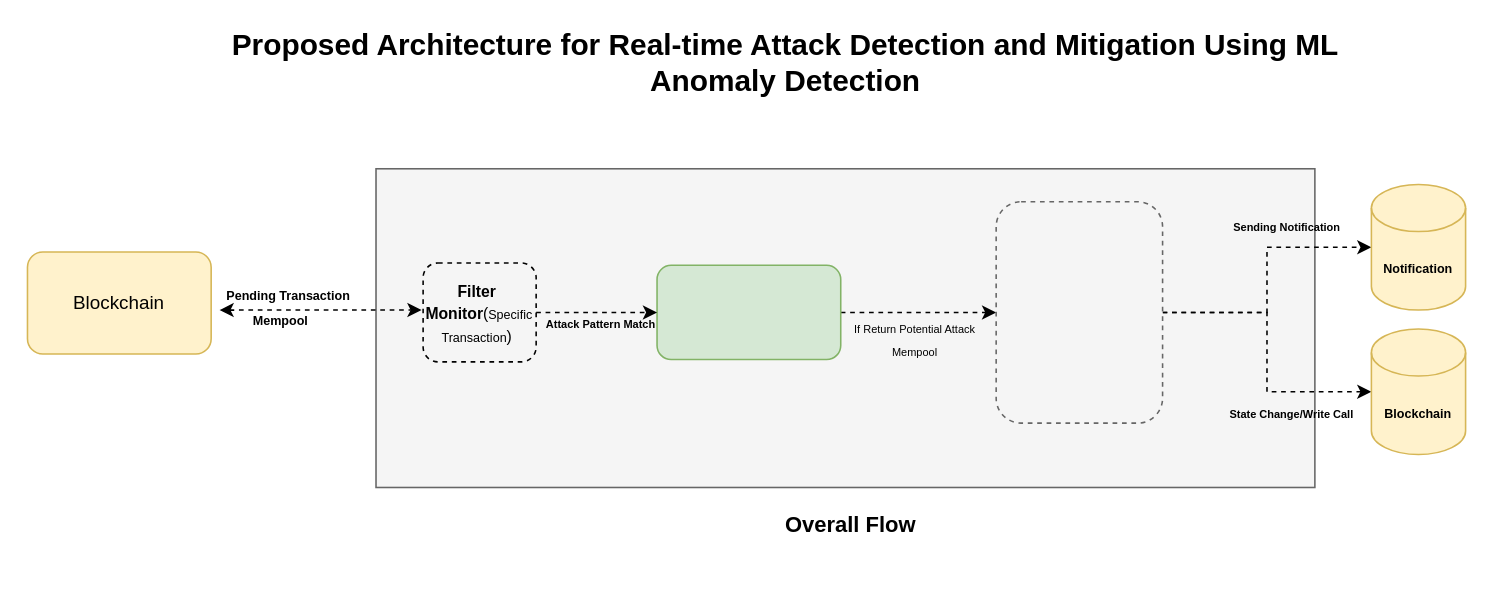
Some shapes in this 1493 by 589 pixel diagram are drawn without their labels. The box of each missing label's shape, as (x1, y1, x2, y2) in pixels:
Execute Action: (995, 200, 1163, 423)
Trained ML Model Pattern Detection: (655, 264, 841, 360)
